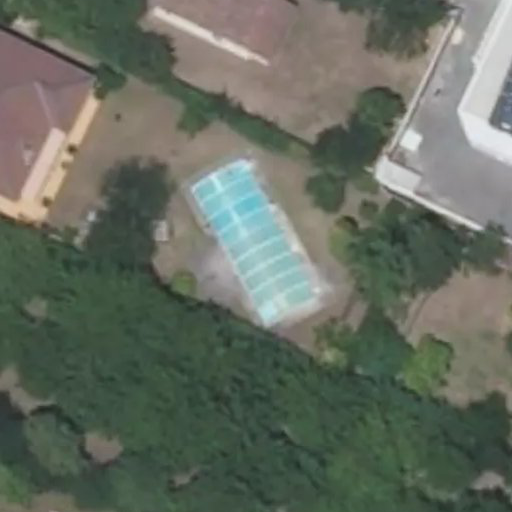pool: (194, 187, 317, 297)
